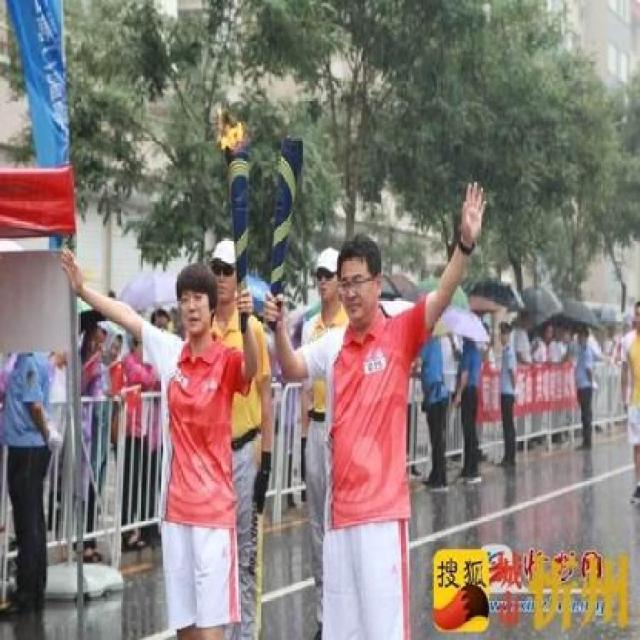Fire: (217, 108, 246, 154)
